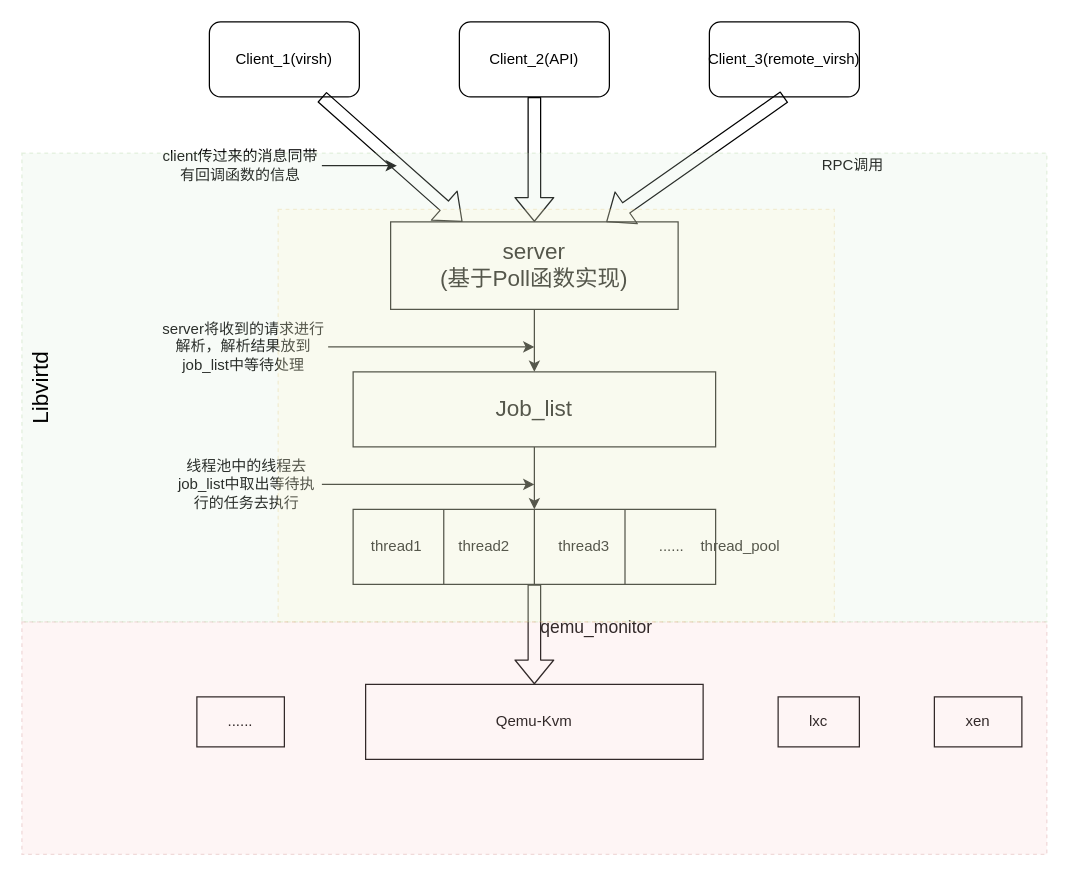
Some shapes in this 1069 by 876 pixel diagram are drawn without their labels. The shapes that lost their labels are listed below. From the top down, each one's centre as x and y in pixels, then its label:
At point 555,415: "event_loop".
At point 534,737: "dirver".
